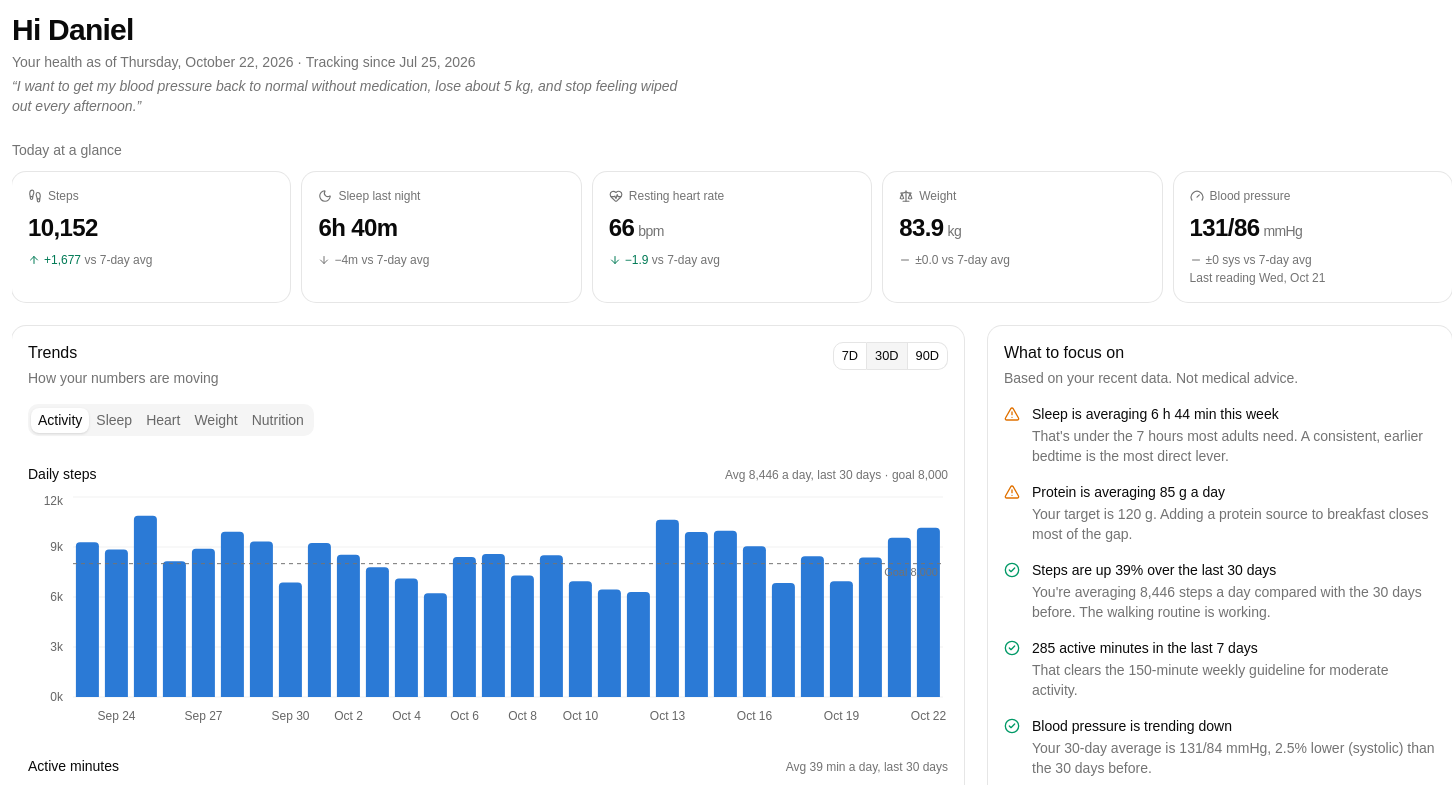
Test case: Dashboard › switches the trend range and aggregates weekly at 90 days
Expected: the heading "Hi Daniel" is shown, [12,13,134,46]
Expected: the text "Avg 8,446 a day, last 30 days · goal 8,000" is shown, [725,467,948,483]
Click the radio button named "last 90 days". click: (928, 356)
box: [908,342,948,370]
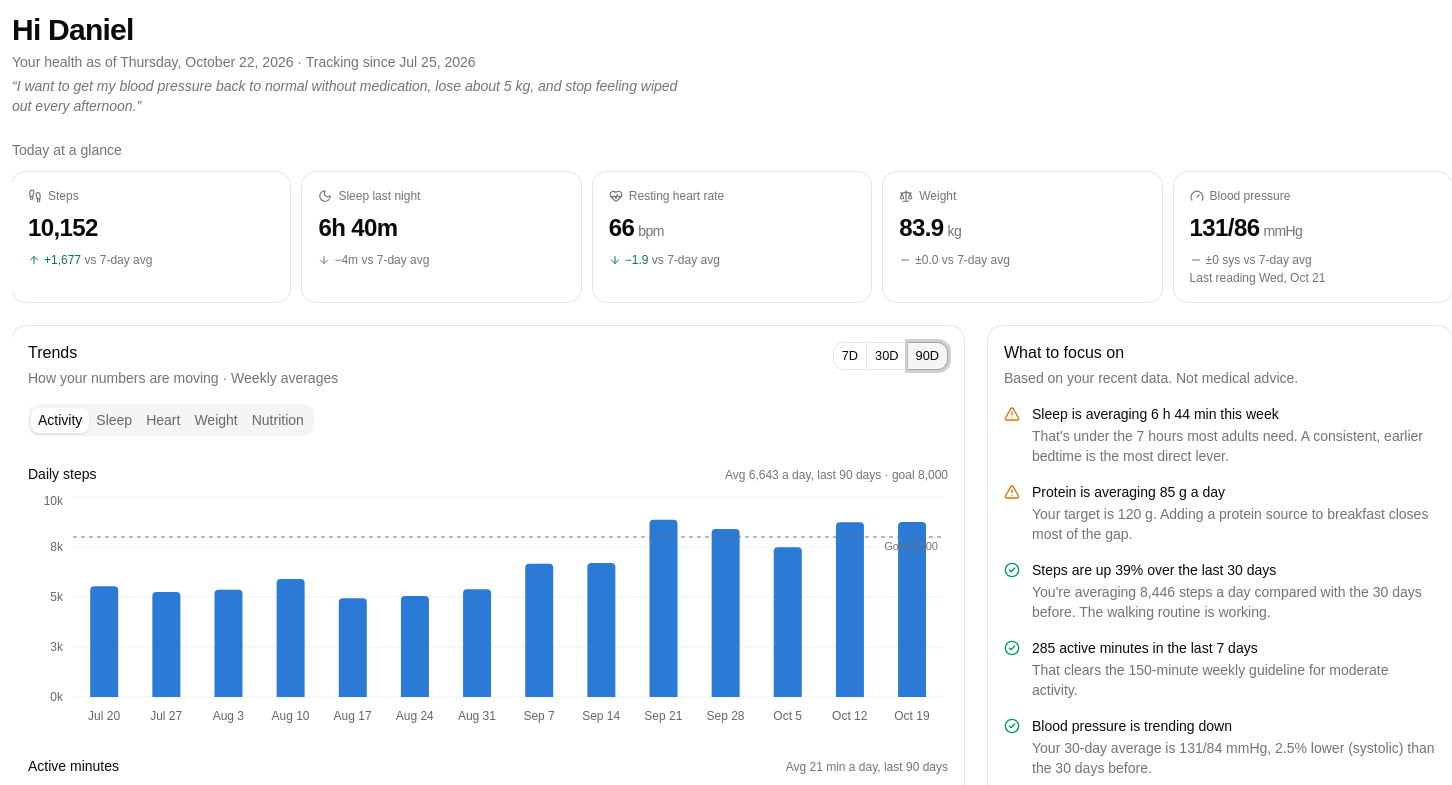
Result: the text "How your numbers are moving · Weekly averages" is shown at [28,370,338,386]
Click the radio button named "last 7 days". click: (850, 356)
box: [833,342,867,370]
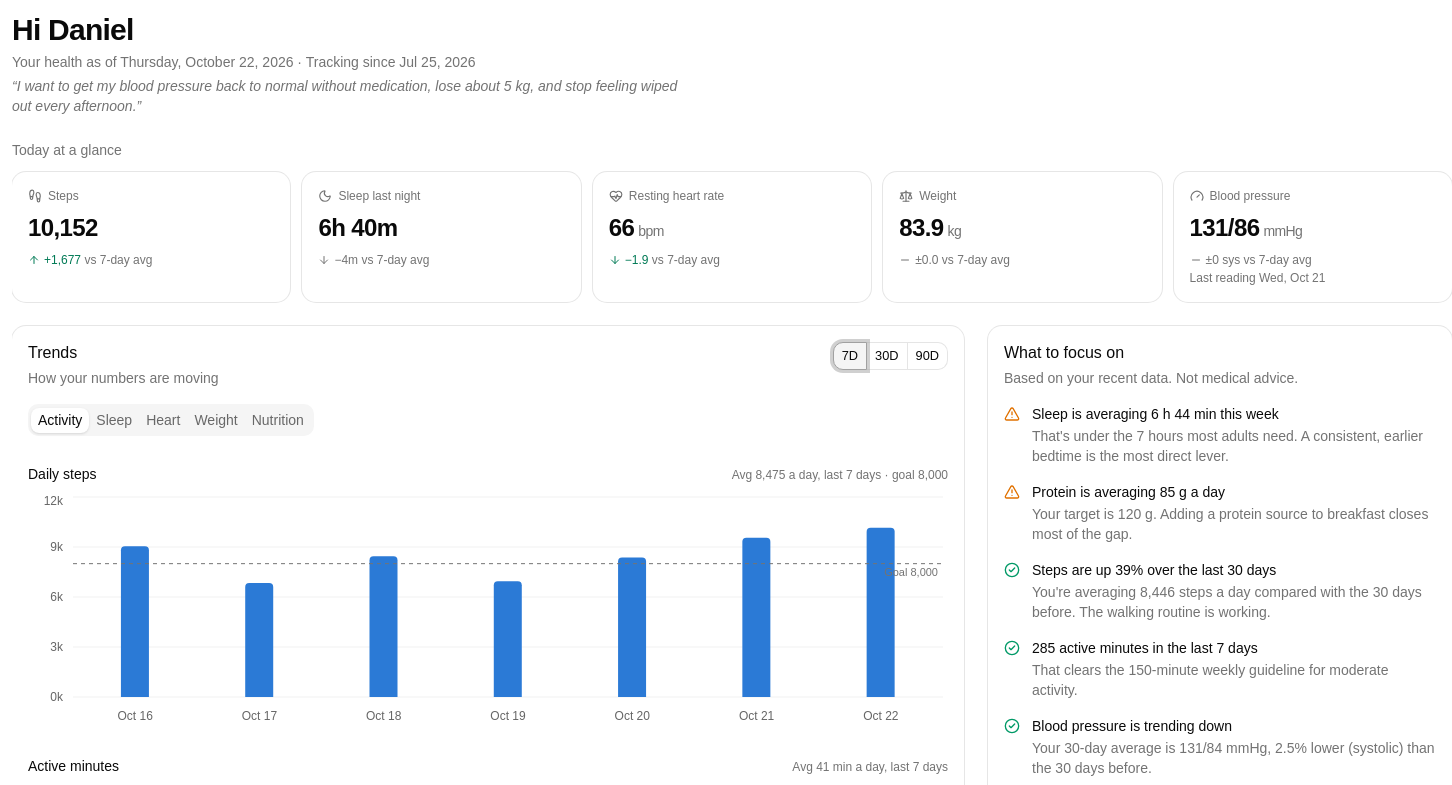
Result: the text "Weekly averages" is gone
